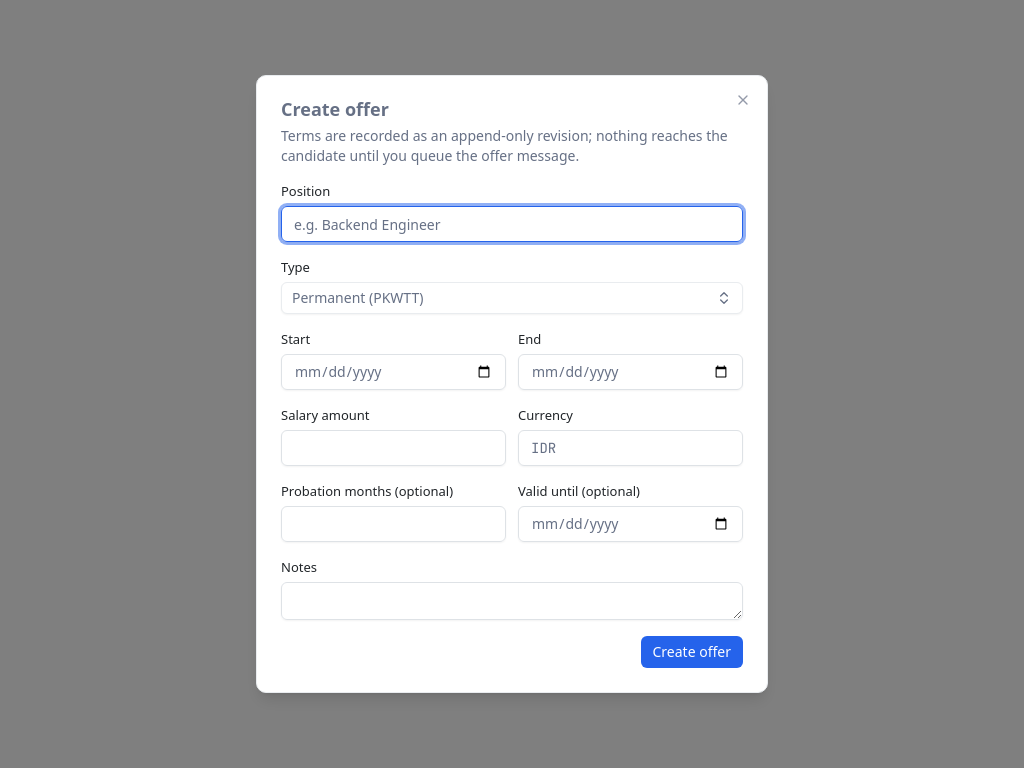
Test: OfferFormDialog › blocks a PKWT offer without an end date
Type "Backend Engineer" into the field labelled "Position" at (512, 224), box [281,206,743,242]
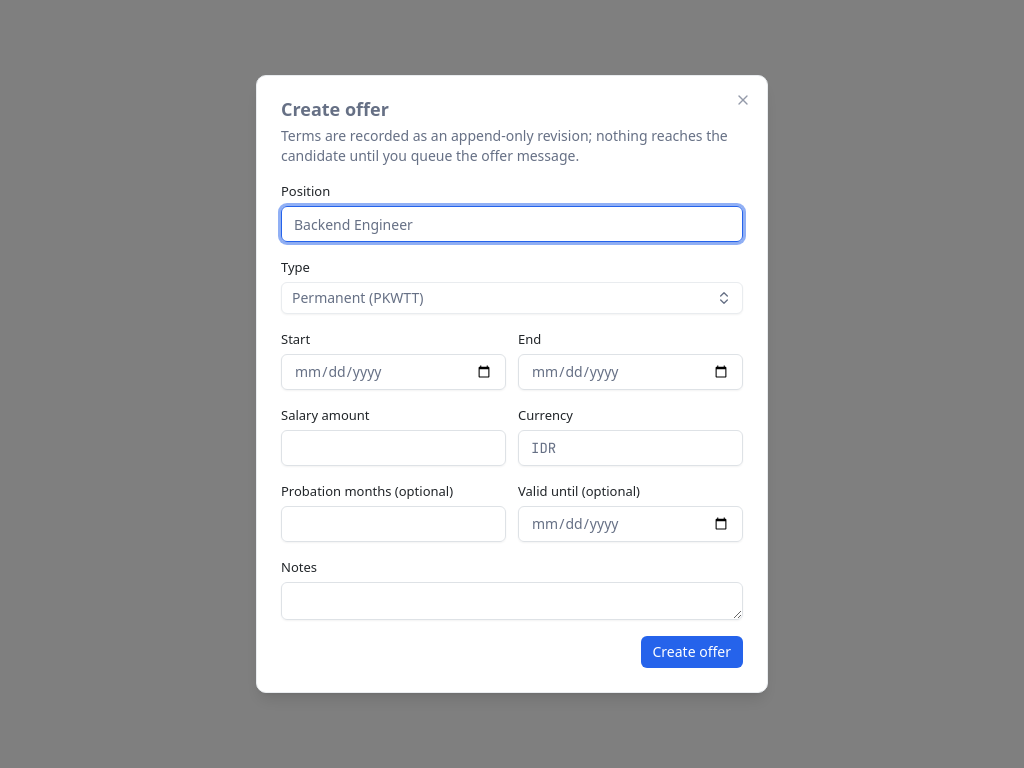
Type "2026-11-01" into the date field labelled "Start" at (394, 372), box [281,354,506,390]
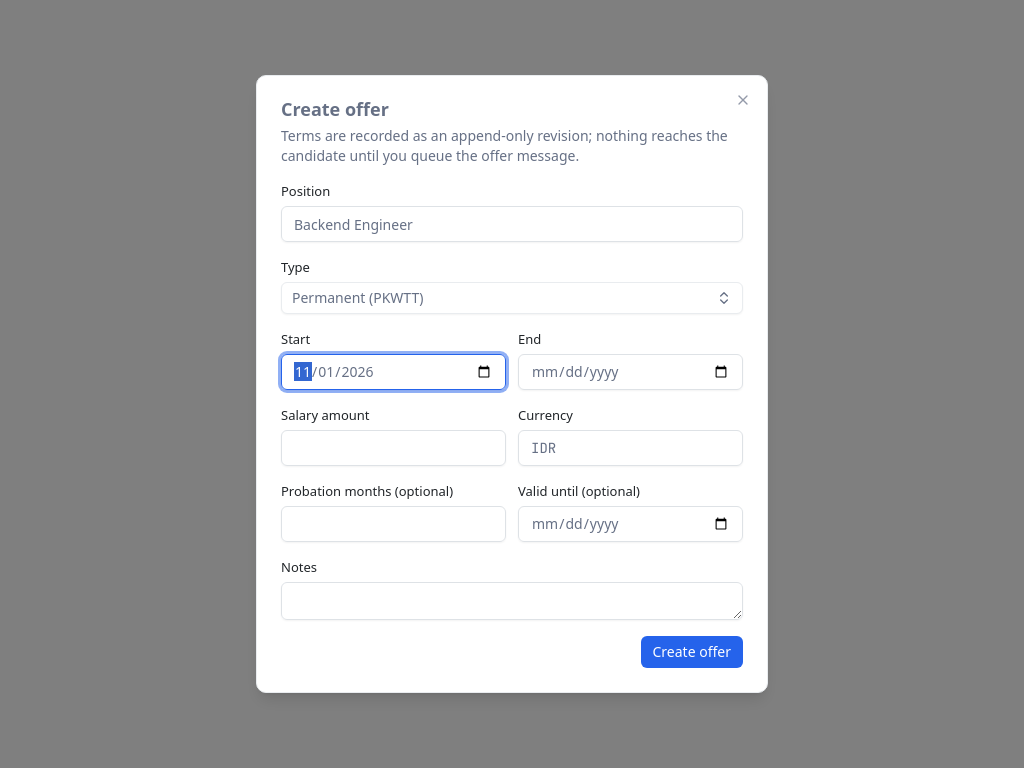
Type "25000000" into the number field labelled "Salary amount" at (394, 448), box [281,430,506,466]
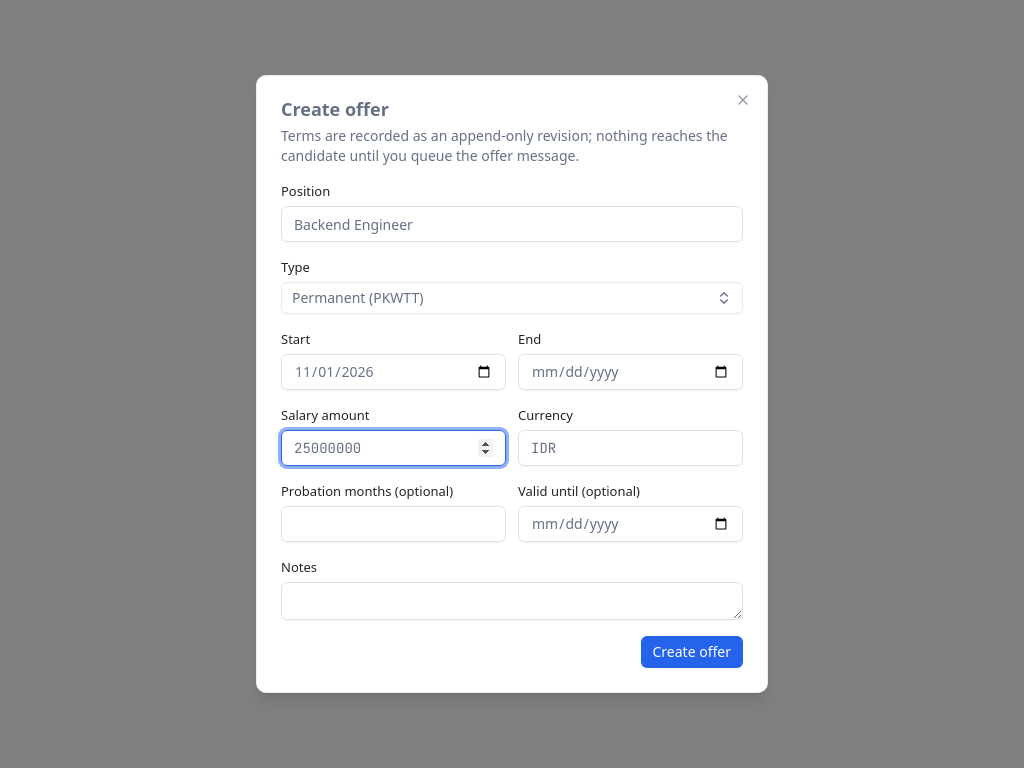
Click the button named "Type" at (358, 298), box [281,282,743,314]
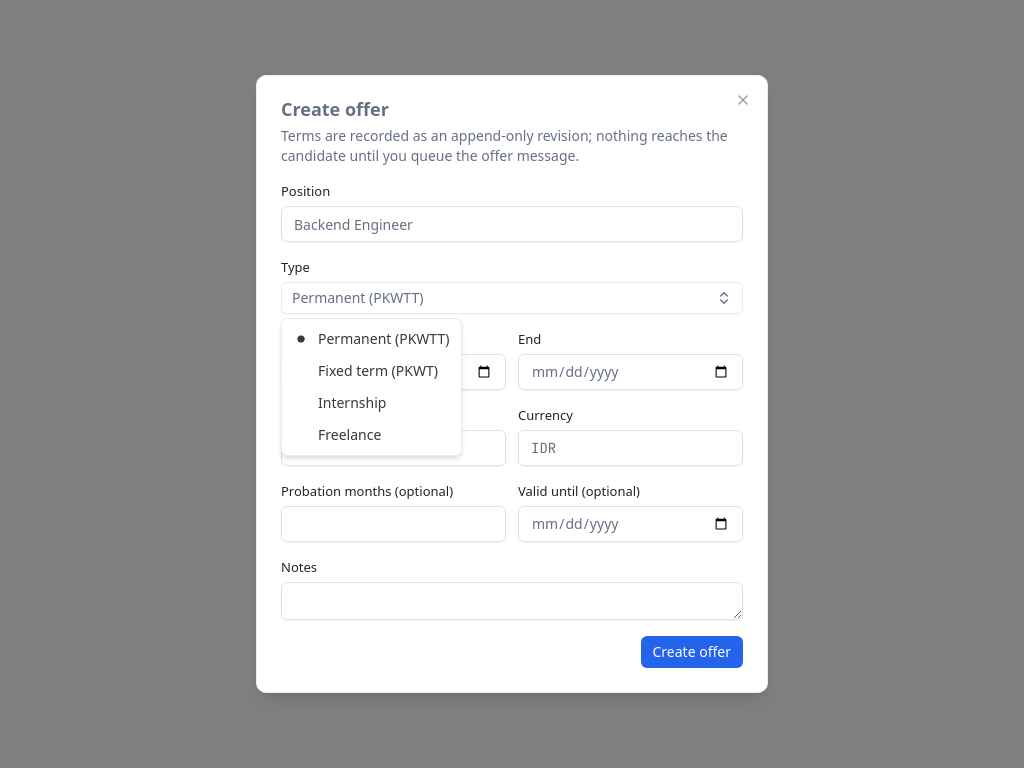
Click the menu item "Fixed term (PKWT)" at (378, 370), box [318,361,438,380]
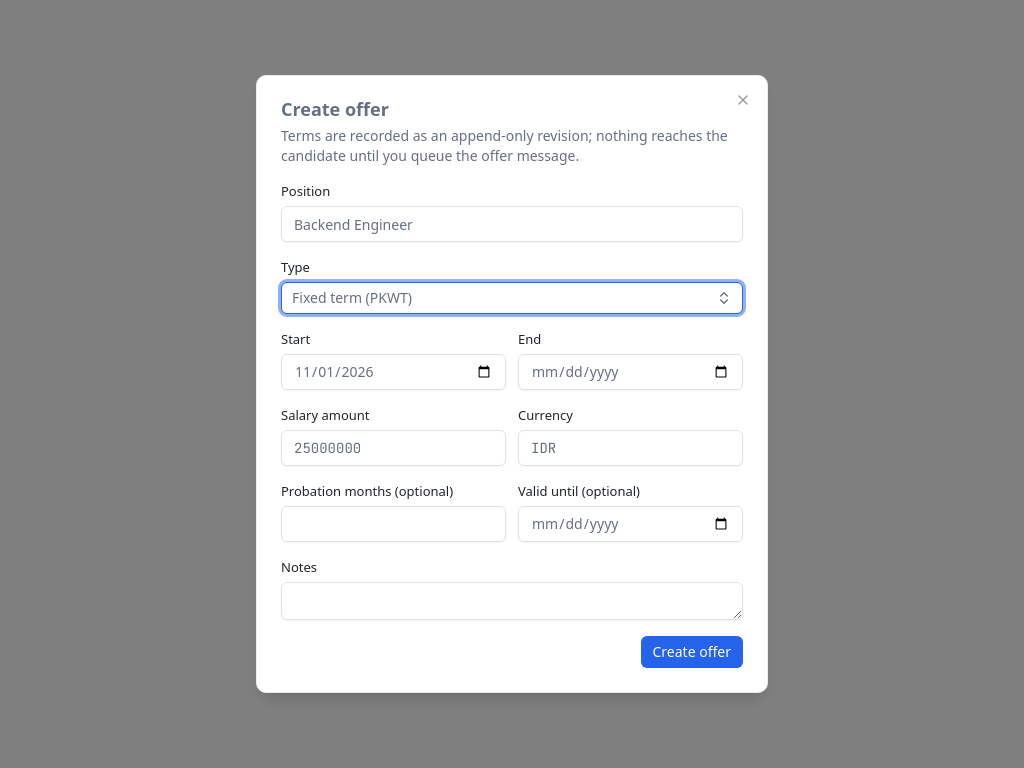
Click the button "Create offer" at (692, 652), box [640,636,743,668]
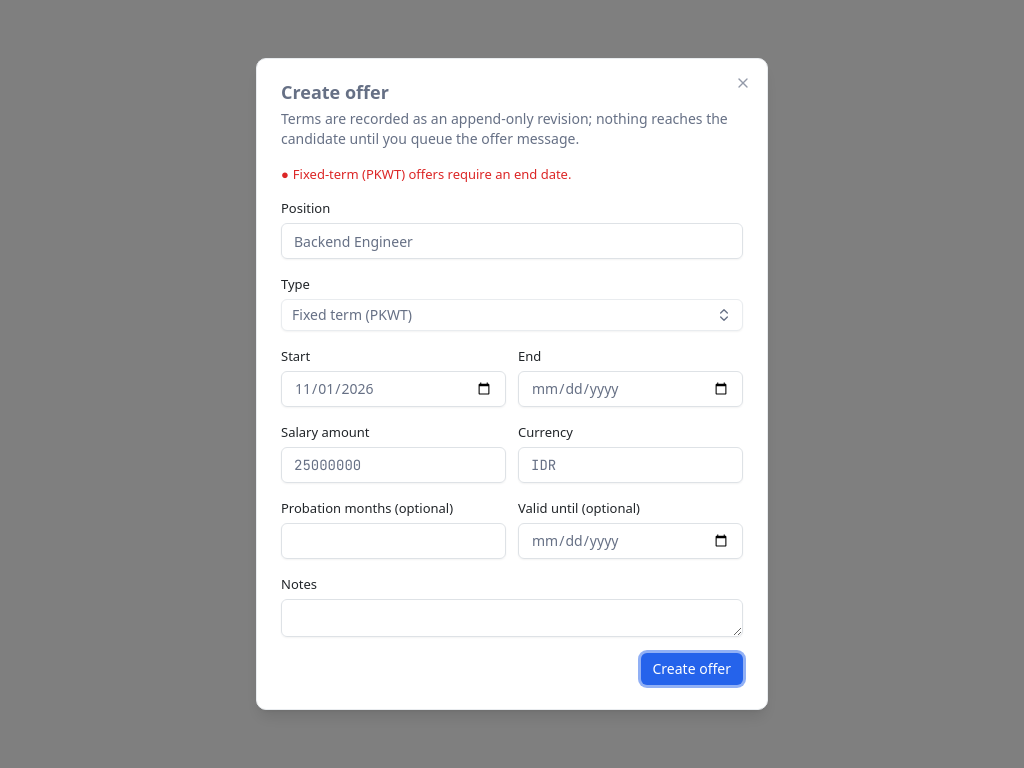
Expected: the text "Fixed-term (PKWT) offers require an end date." is shown, [293,165,572,183]
